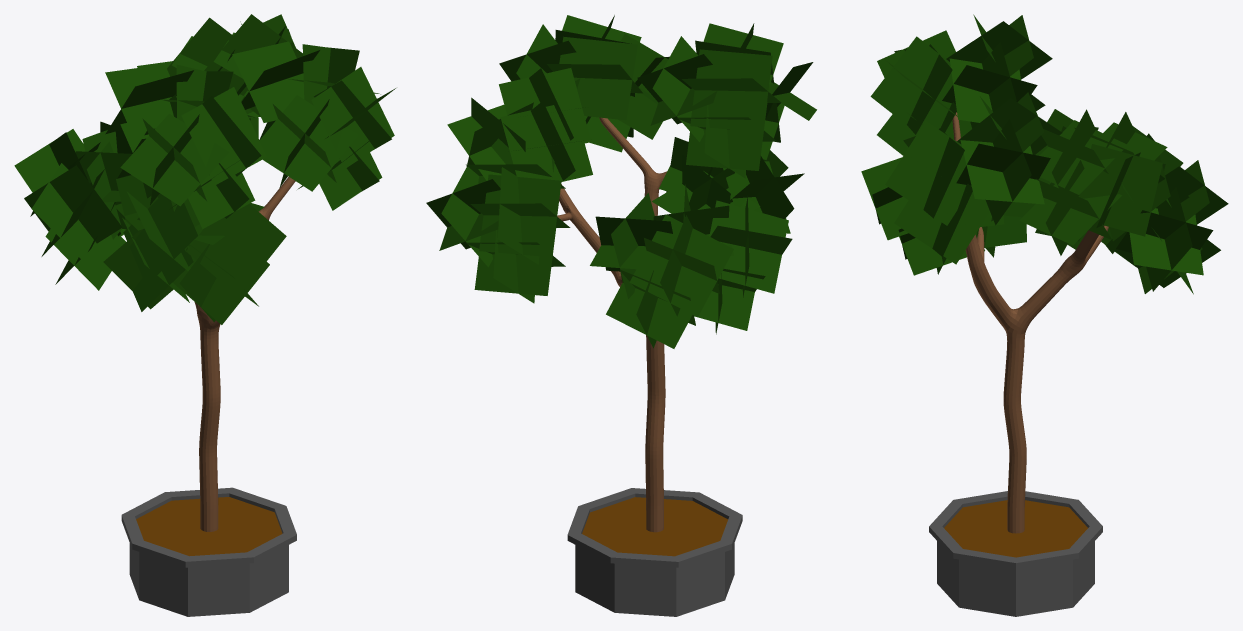
File: Tree_001.fbx
3 renders of one model, left to right at view 1: azimuth 30°, elevation 25°; view 2: azimuth 150°, elevation 25°; view 3: azimuth 270°, elevation 25°, orthographic. The views are drawn at different scales.
Visible parts, largest first — view 1: Blattwerk, Base, Tree; view 2: Blattwerk, Base, Tree; view 3: Blattwerk, Base, Tree.
Boxes of the visible parts, <box> form: Blattwerk: <box>14,14,395,324</box>; Base: <box>121,487,296,616</box>; Tree: <box>194,177,295,531</box>; Blattwerk: <box>426,15,816,348</box>; Base: <box>567,488,742,616</box>; Tree: <box>557,117,666,532</box>; Blattwerk: <box>861,14,1228,294</box>; Base: <box>929,491,1102,616</box>; Tree: <box>952,112,1108,533</box>.
Bounding box in the file's own units: 641 × 1092 × 676.
